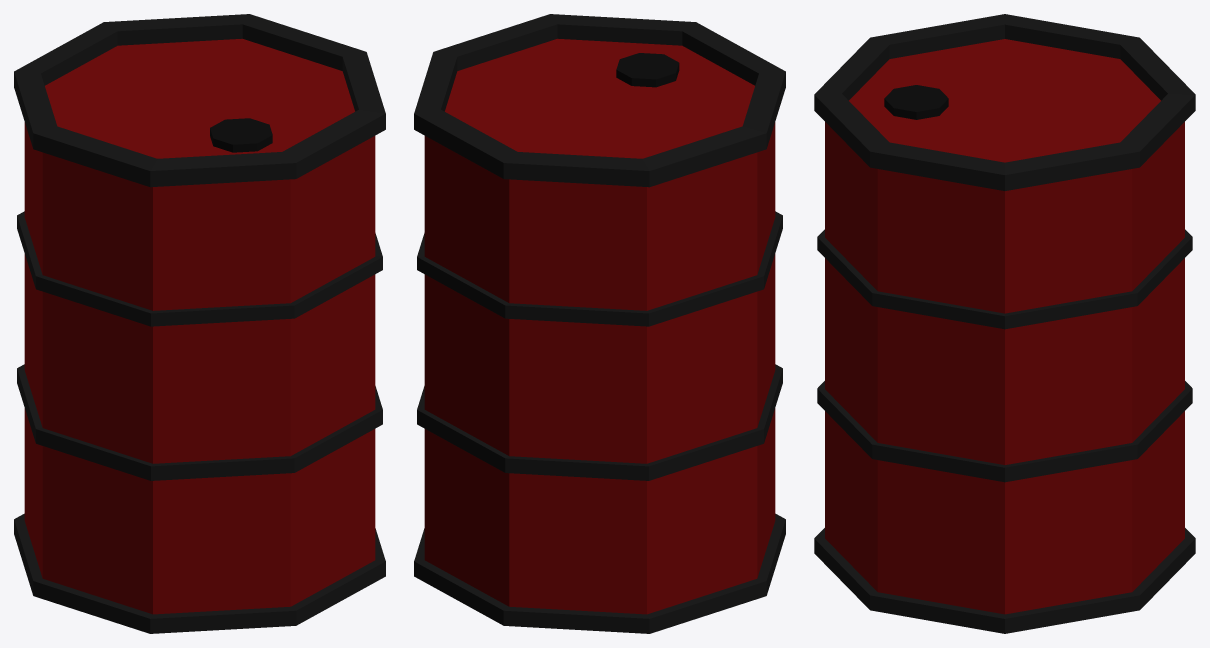
Rendered from Barril_Explosion.FBX.
3 views of the same model, side by side, from view 1: azimuth 30°, elevation 25°; view 2: azimuth 150°, elevation 25°; view 3: azimuth 270°, elevation 25° (orthographic).
Parts seen in each view (by area): view 1: Barril_Explosivo; view 2: Barril_Explosivo; view 3: Barril_Explosivo.
Boxes of the visible parts, <box> form: Barril_Explosivo: <box>14,14,385,633</box>; Barril_Explosivo: <box>414,14,785,633</box>; Barril_Explosivo: <box>814,14,1195,633</box>.
Size of the model in its own units: 240 by 320 by 240.
